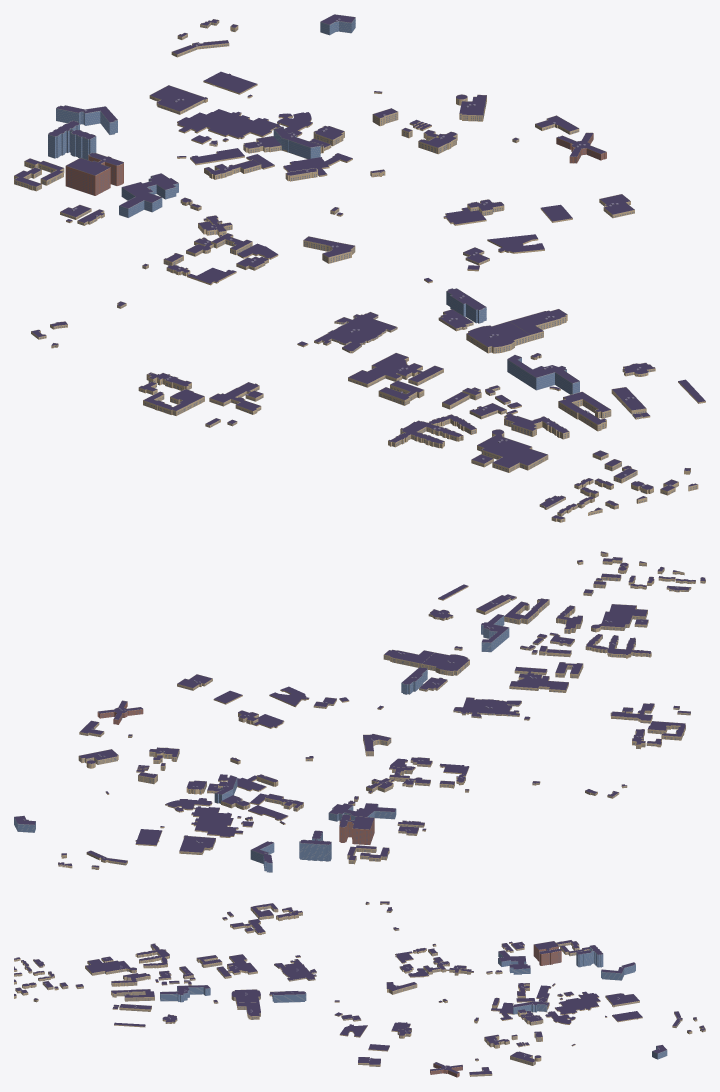
The model's file is campus-rest-day.glb.
The picture shows the model from 3 angles, top to bottom: view 1: azimuth 30°, elevation 25°; view 2: azimuth 150°, elevation 25°; view 3: azimuth 270°, elevation 25°; orthographic projection. The views are drawn at different scales.
Visible parts, largest first — view 1: campus-rest-day-1, campus-rest-day-2, campus-rest-day-0, campus-rest-day-3, campus-rest-day-4; view 2: campus-rest-day-1, campus-rest-day-2, campus-rest-day-0, campus-rest-day-3, campus-rest-day-4; view 3: campus-rest-day-1, campus-rest-day-2, campus-rest-day-0, campus-rest-day-3, campus-rest-day-4.
Part boxes in pixels (bbox=[...]): campus-rest-day-1: bbox=[143, 14, 579, 516]; campus-rest-day-2: bbox=[191, 94, 705, 474]; campus-rest-day-0: bbox=[14, 105, 613, 509]; campus-rest-day-3: bbox=[24, 120, 655, 522]; campus-rest-day-4: bbox=[177, 109, 698, 495]; campus-rest-day-1: bbox=[14, 578, 695, 869]; campus-rest-day-2: bbox=[78, 560, 606, 827]; campus-rest-day-0: bbox=[250, 575, 691, 872]; campus-rest-day-3: bbox=[283, 561, 705, 864]; campus-rest-day-4: bbox=[191, 551, 622, 837]; campus-rest-day-1: bbox=[21, 903, 705, 1076]; campus-rest-day-2: bbox=[33, 982, 575, 1077]; campus-rest-day-0: bbox=[24, 901, 635, 983]; campus-rest-day-3: bbox=[14, 912, 603, 1023]; campus-rest-day-4: bbox=[14, 981, 600, 1015].
Size of the model in its own units: 1288 by 43.95 by 2156.
